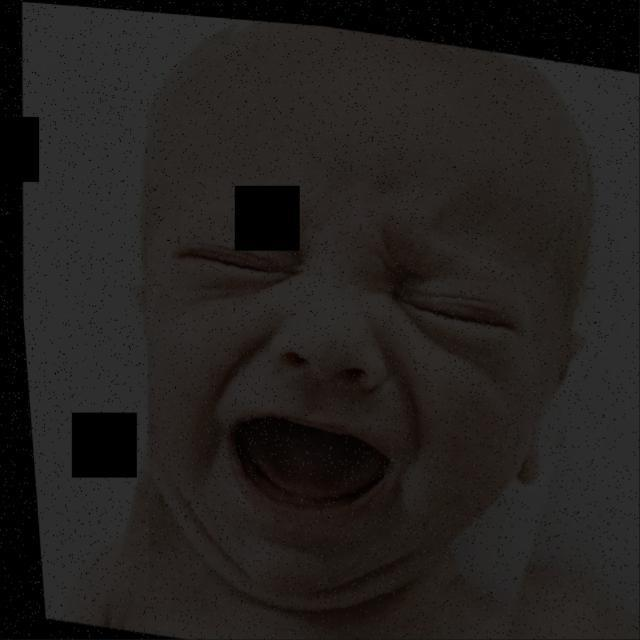Sad: (43, 132, 611, 587)
